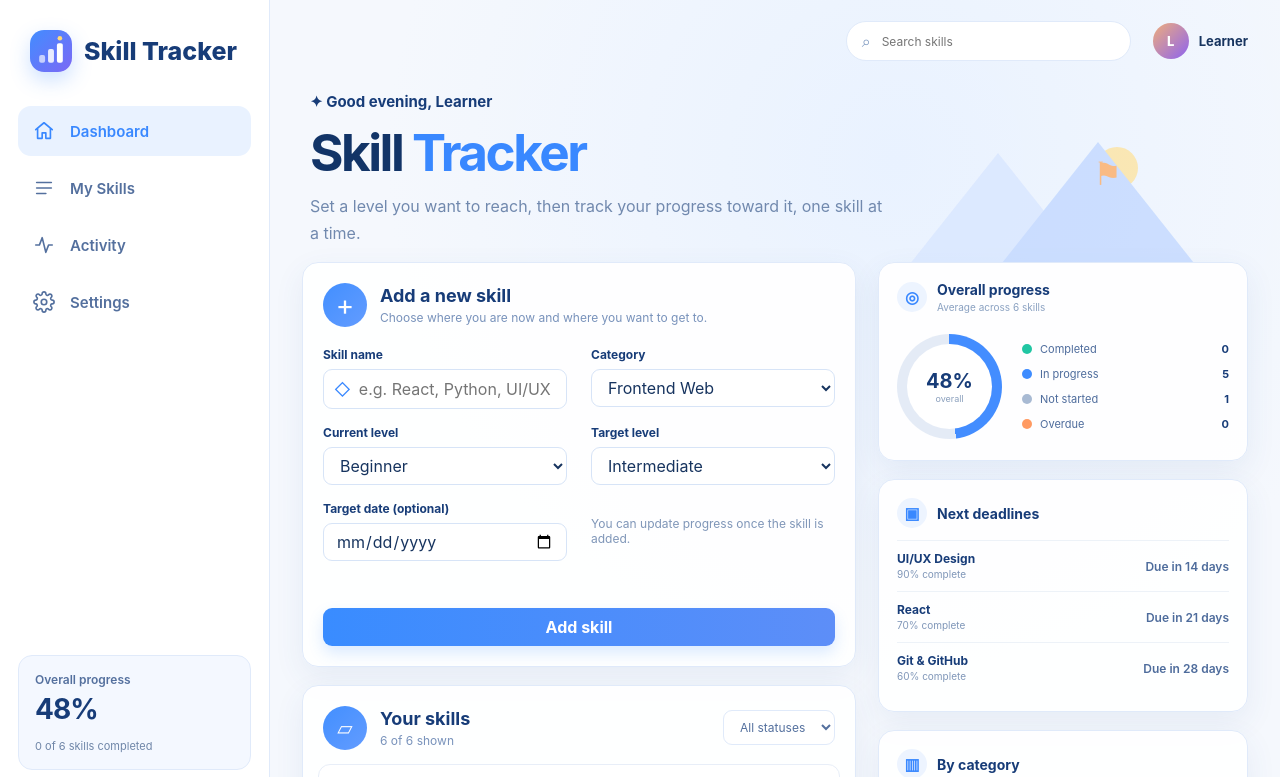
Test: Skill Tracker app › adds a skill with current and target level and saves it
The image size is (1280, 777).
Type "Docker" into the field labelled "Skill name" at (462, 389), box [359,370,566,408]
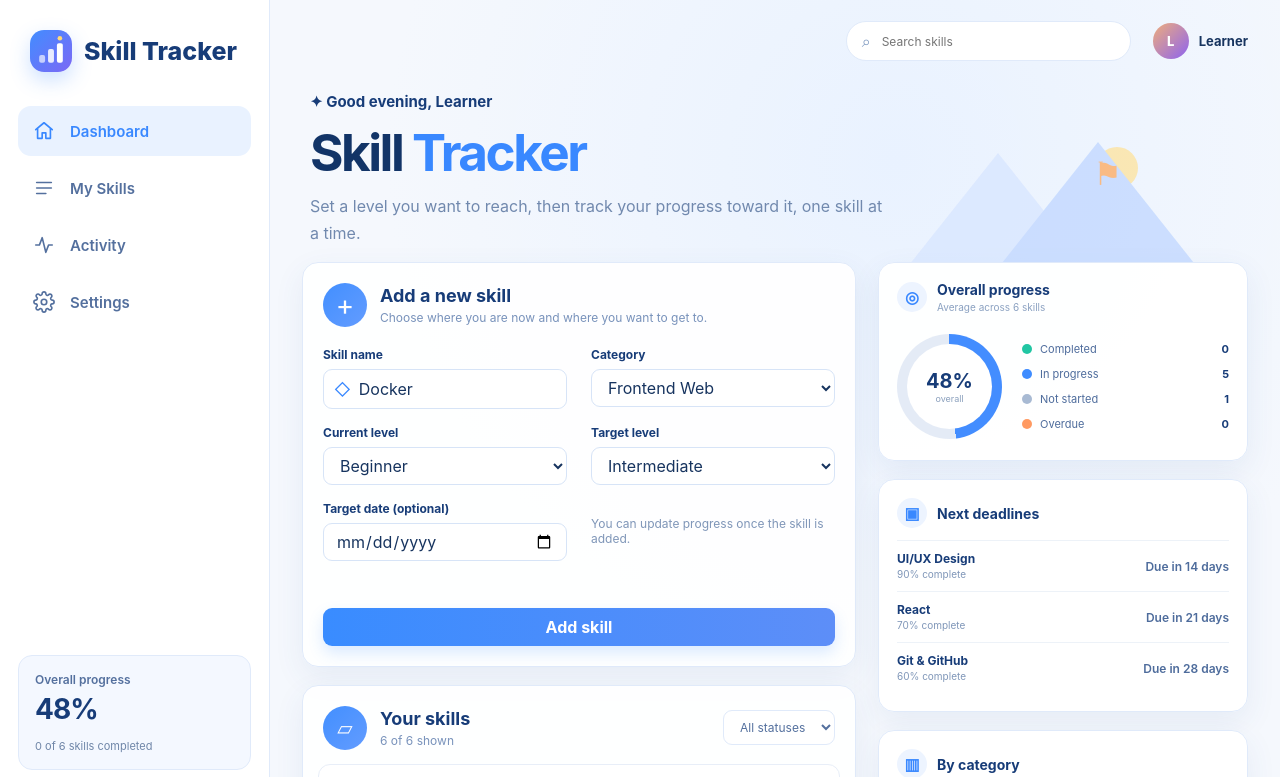
Select "Beginner" in the dropdown labelled "Current level" at (445, 466), box [323,447,567,485]
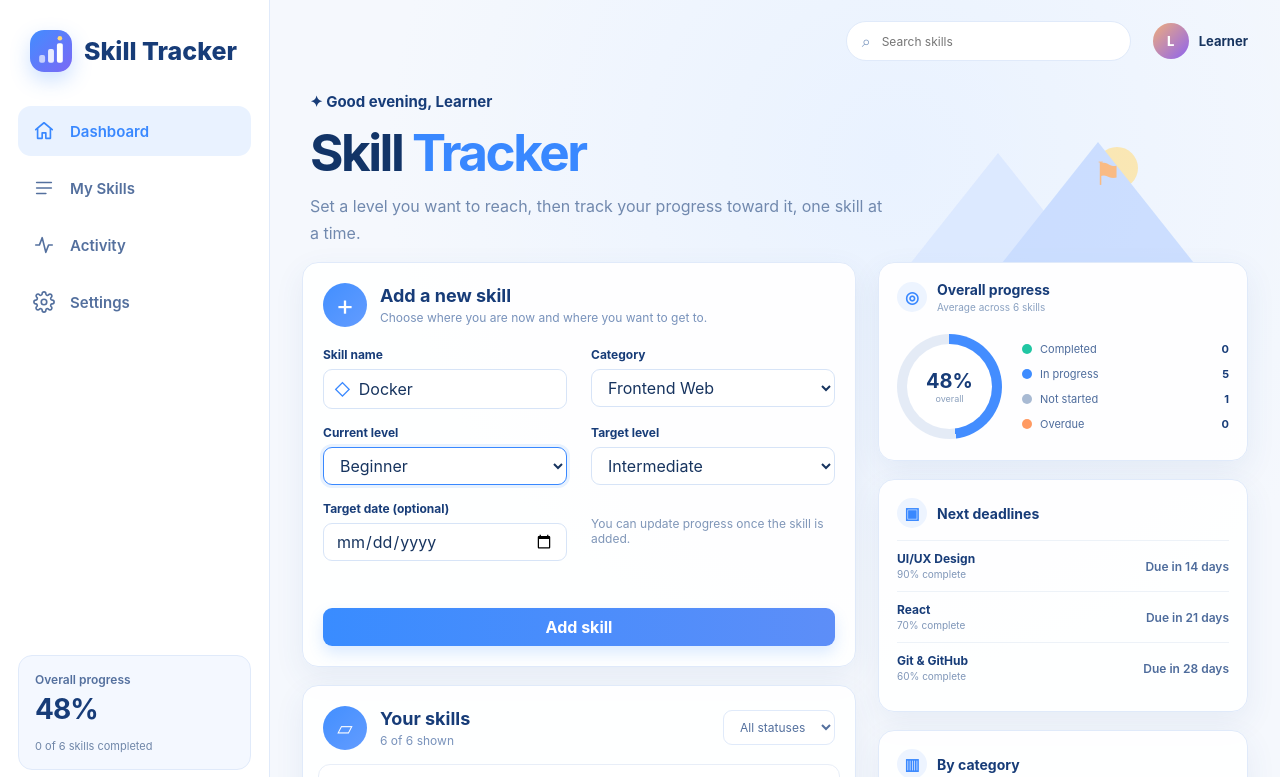
Select "Advanced" in the dropdown labelled "Target level" at (713, 466), box [591,447,835,485]
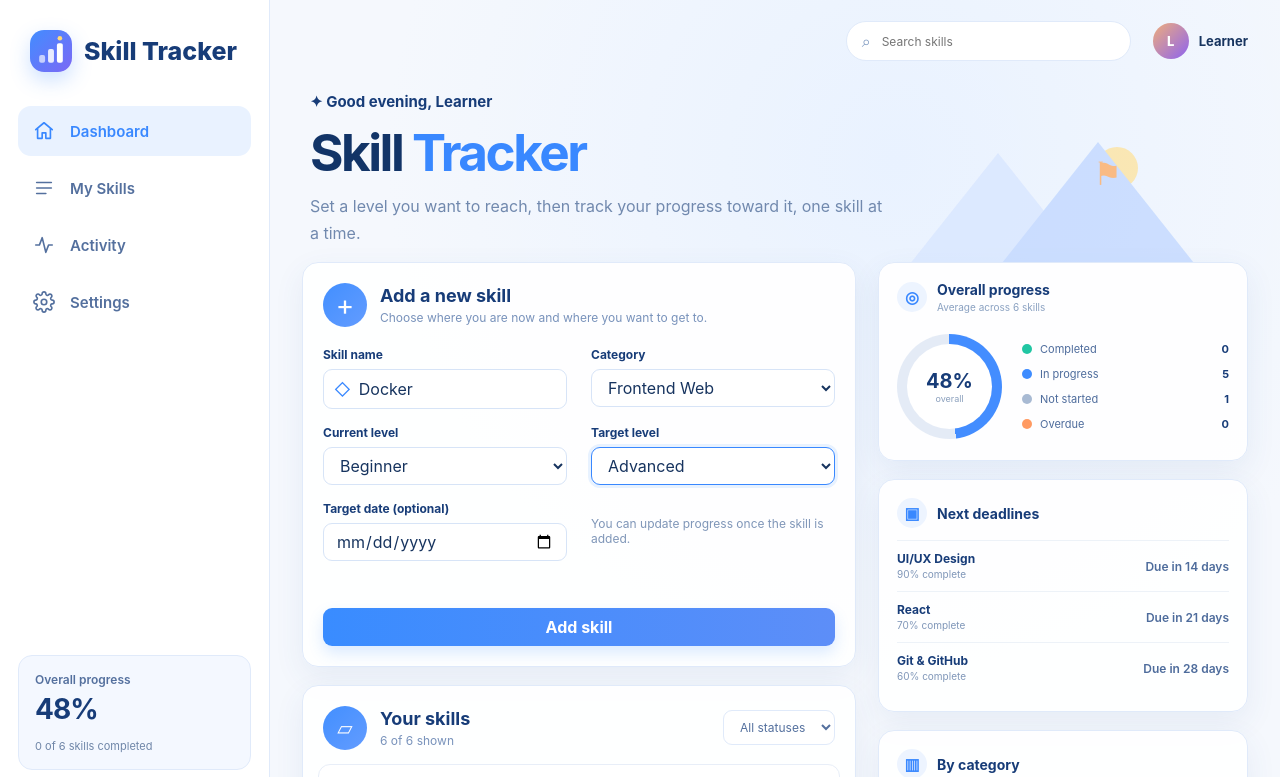
Type "2030-01-15" into the date field labelled "Target date (optional)" at (445, 542), box [323,523,567,561]
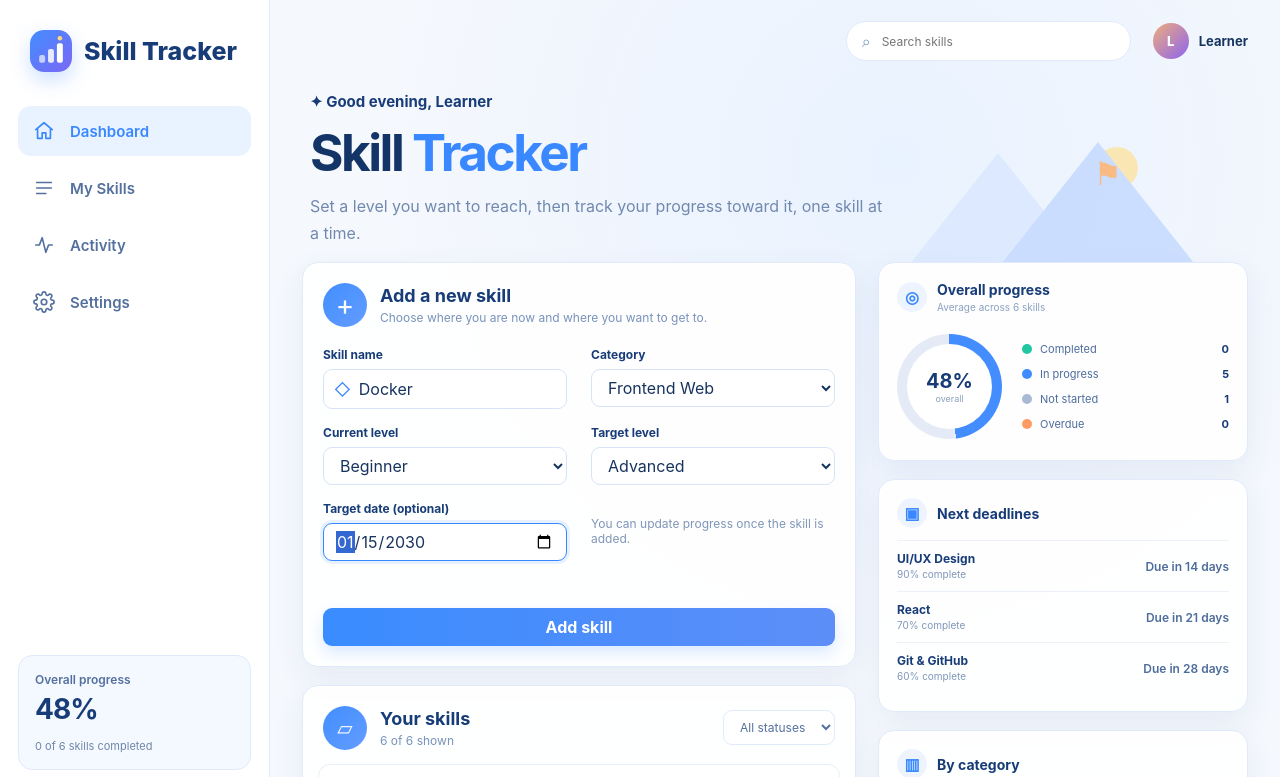
Click the button "Add skill" at (579, 627), box [323,608,835,646]
(page scrolled)
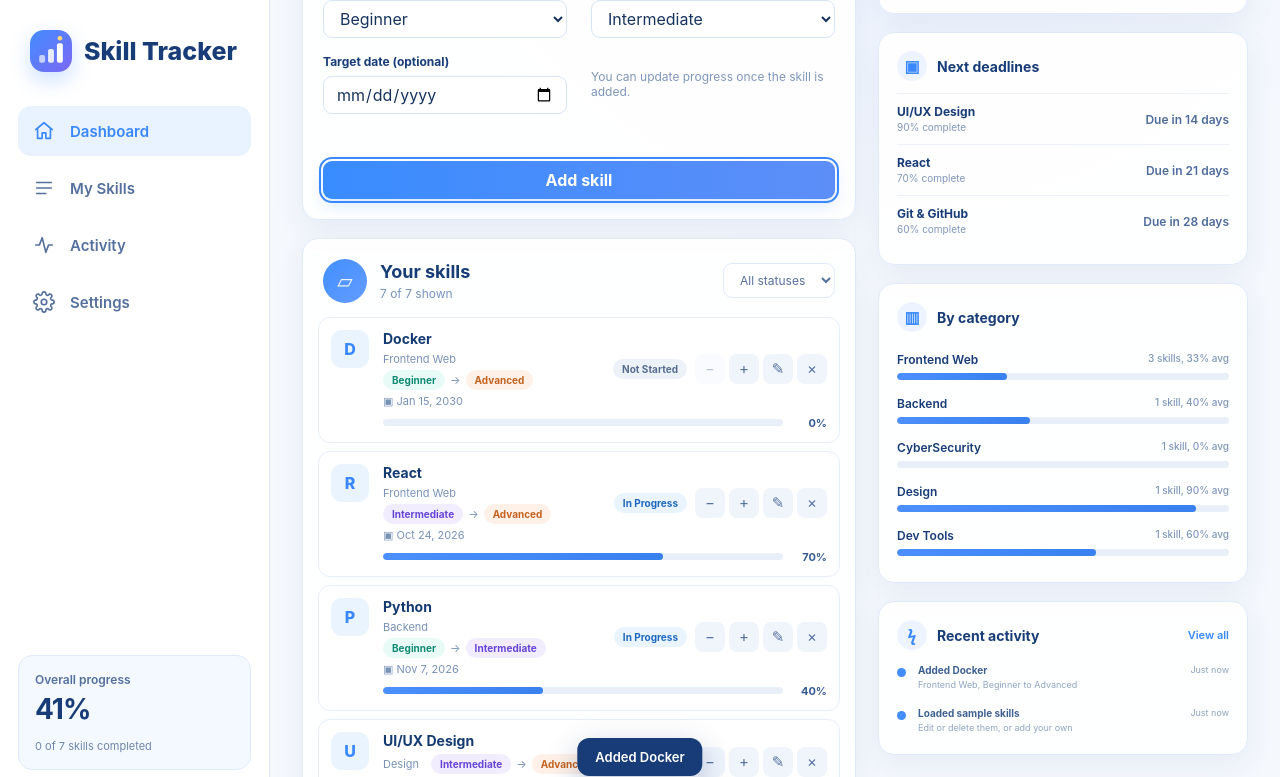
Check: the 1st text "Beginner" is shown, box [383,370,445,390]
Check: the 1st text "Advanced" is shown, box [466,370,533,390]
Check: the text "Not Started" is shown, box [613,359,687,379]
